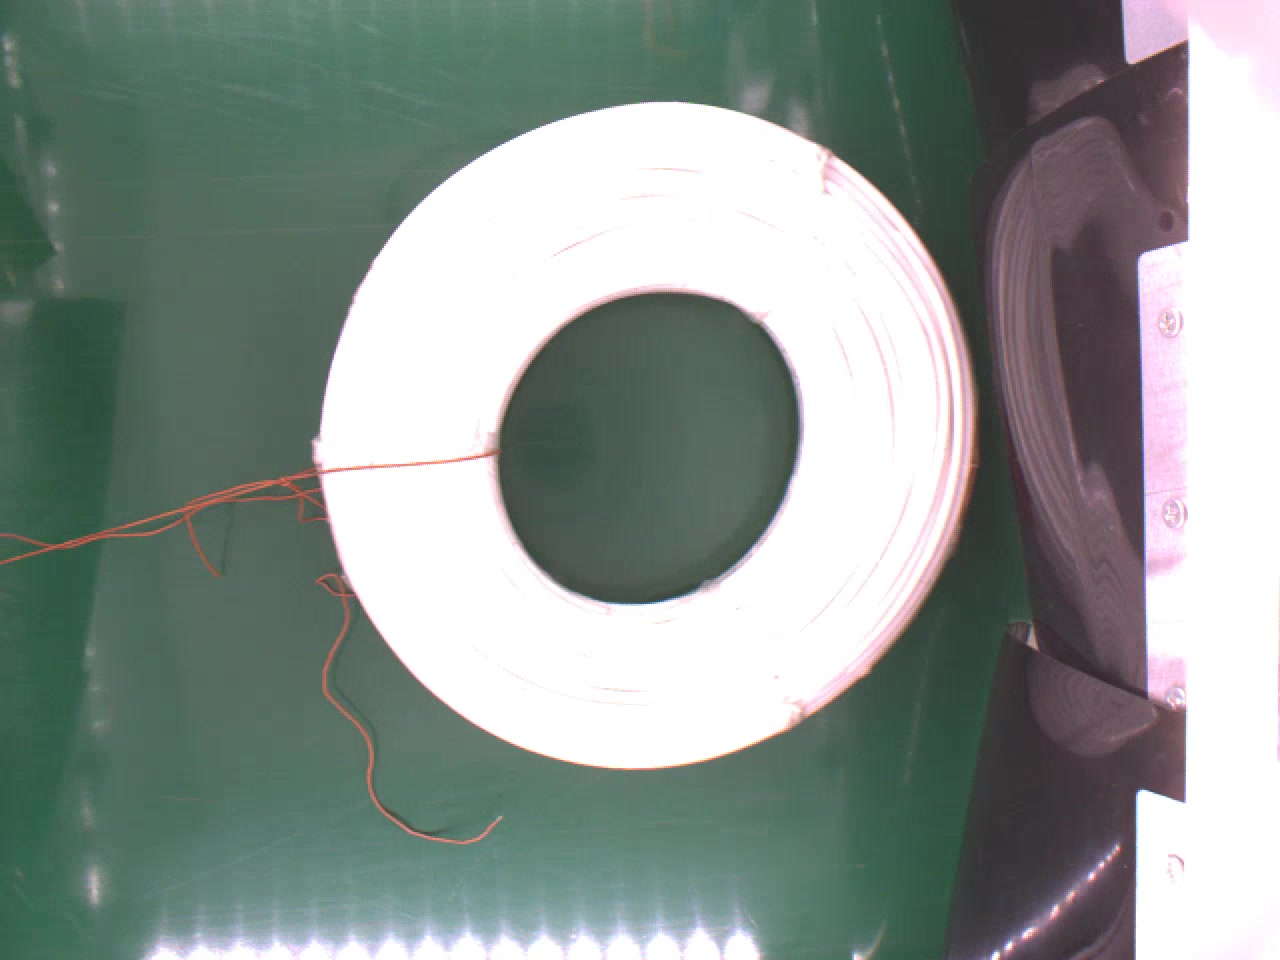white: (312, 95, 990, 766)
